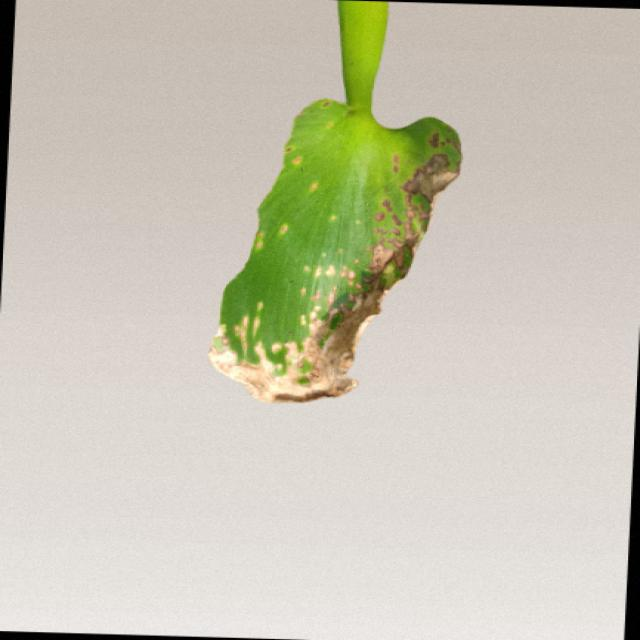daun berpenyakit bercak: (210, 1, 460, 402)
